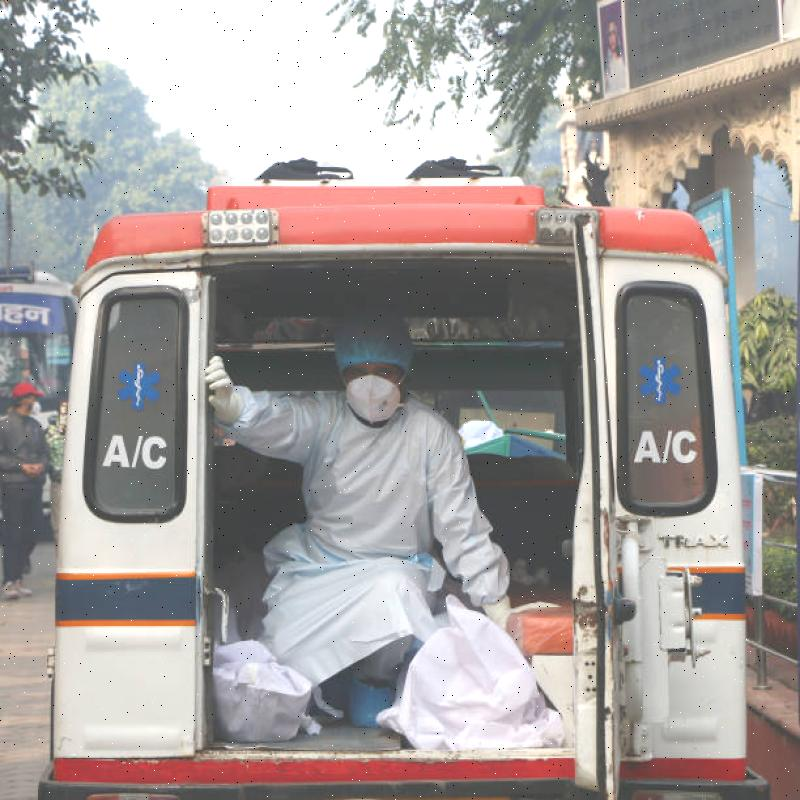ambulance: (19, 122, 764, 796)
